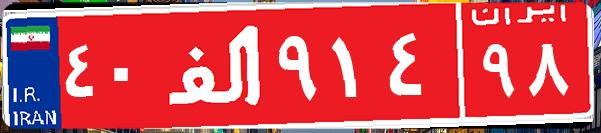0: (110, 28, 158, 105)
1: (330, 28, 385, 110)
4: (385, 28, 445, 110), (57, 26, 110, 107)
8: (525, 38, 570, 115)
9: (273, 28, 330, 110), (475, 38, 525, 113)
الف: (158, 15, 273, 115)
